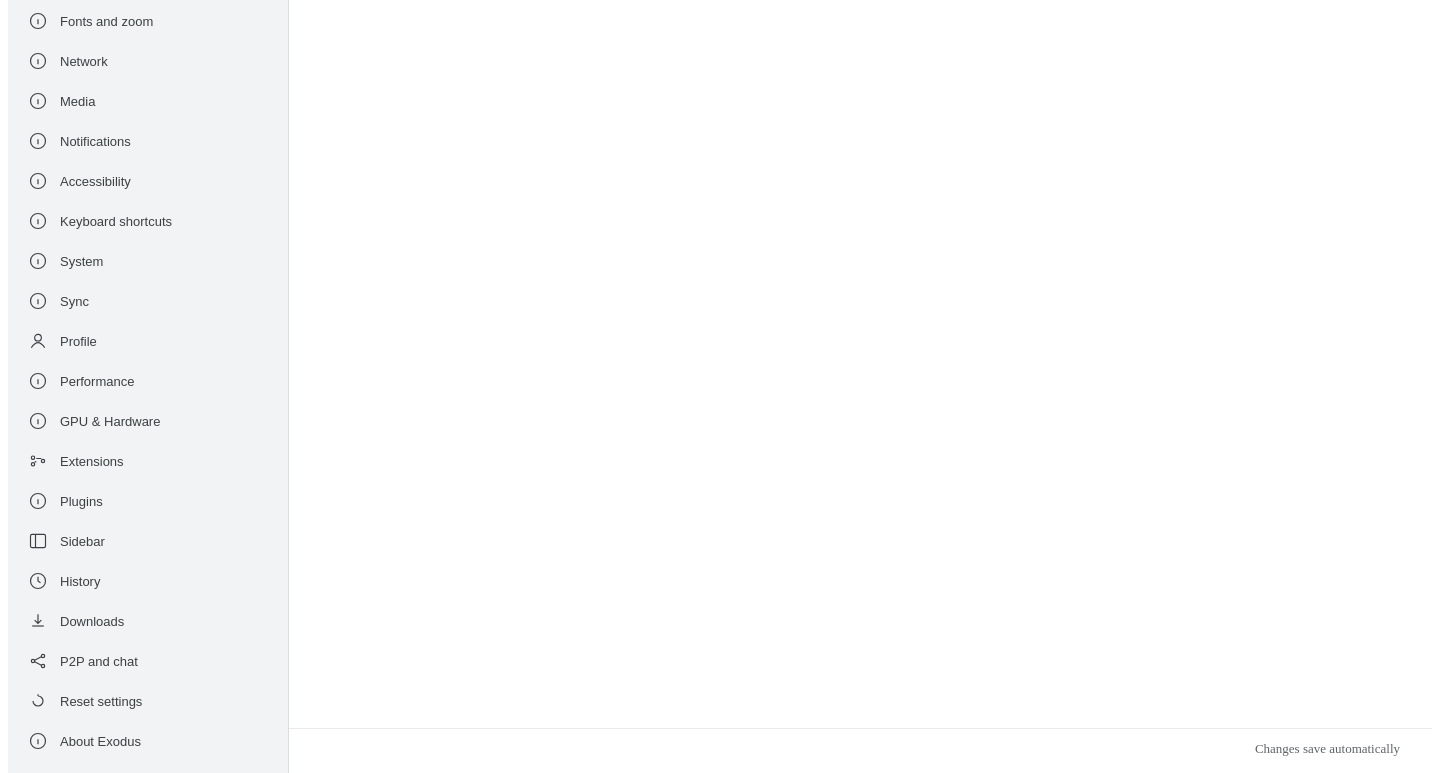
Test: ChromeSettingsPage › lazy-mounts heavy panels until section is visited
(page scrolled)
Click the button with test id "chrome-settings-nav-extensions" at (92,461), box [16, 441, 280, 481]
(page scrolled)
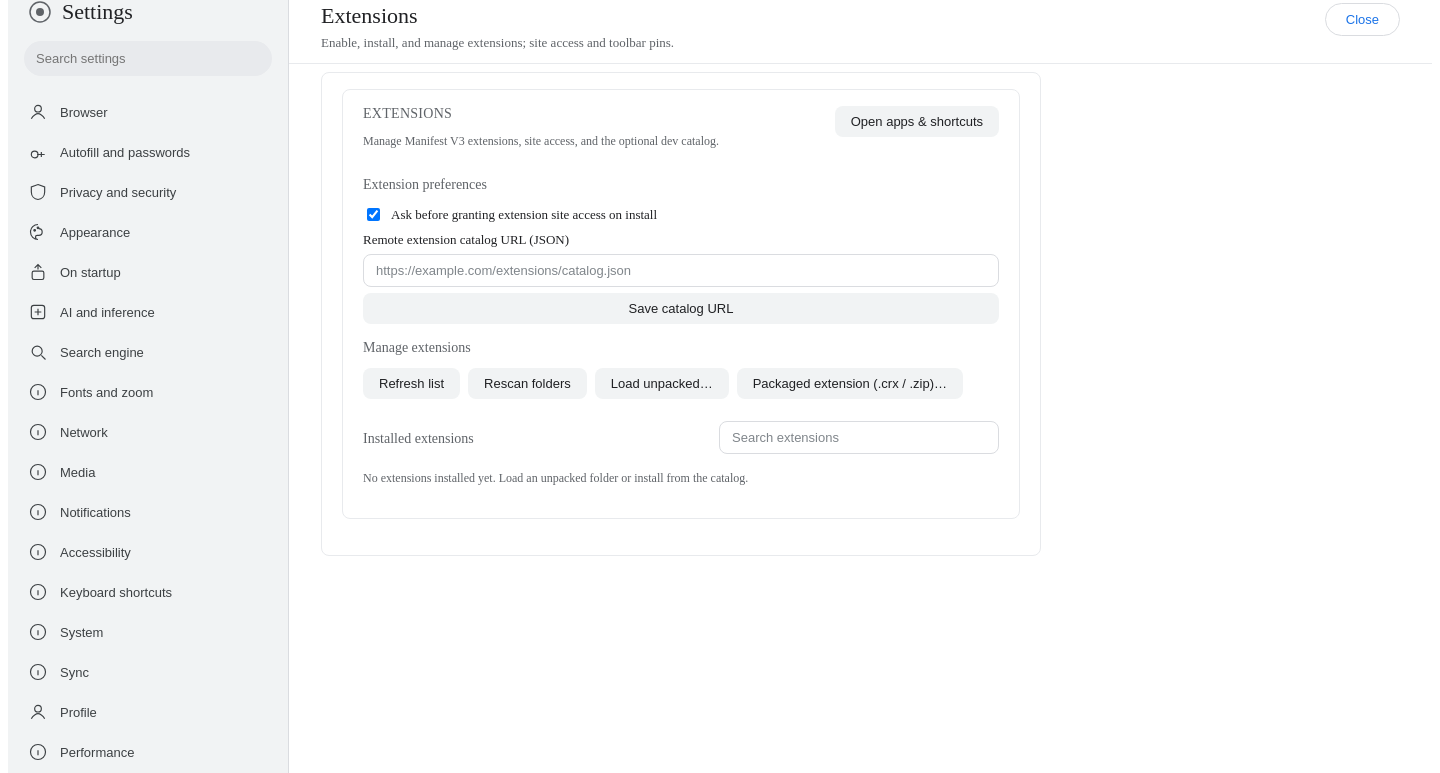
Expected: the element with test id "settings-section-extensions" is shown, [321, 72, 1041, 556]
